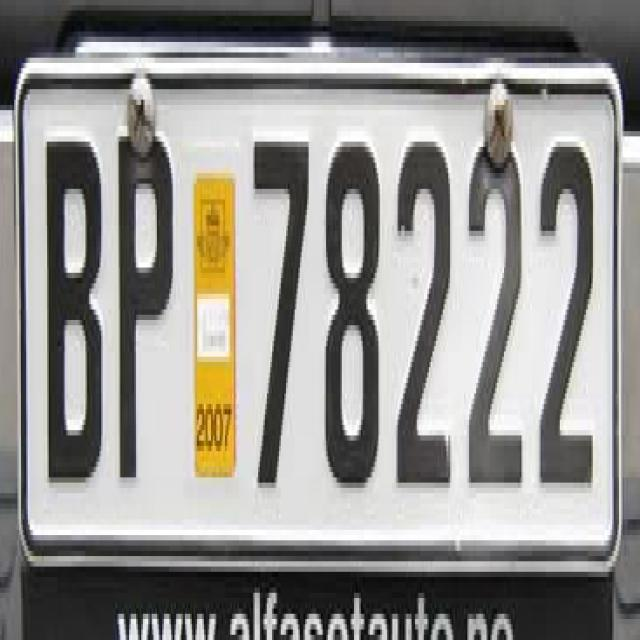Autre: (13, 58, 622, 580)
